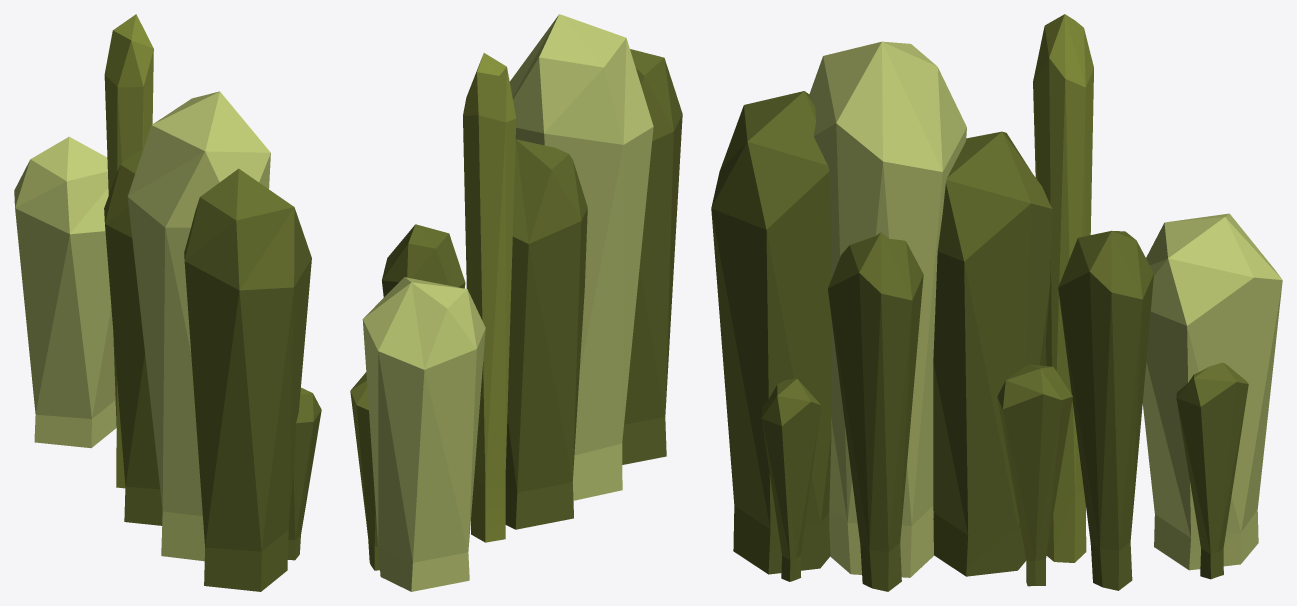
The model's file is ea_swamp_grass_01c_pre__4__lev1.glb.
The picture shows the model from 3 angles, left to right: view 1: azimuth 30°, elevation 25°; view 2: azimuth 150°, elevation 25°; view 3: azimuth 270°, elevation 25°; orthographic projection. The views are drawn at different scales.
Parts seen in each view (by area): view 1: ea_swamp_grass_01c_pre__4__lev1; view 2: ea_swamp_grass_01c_pre__4__lev1; view 3: ea_swamp_grass_01c_pre__4__lev1.
Boxes of the visible parts, <box> form: ea_swamp_grass_01c_pre__4__lev1: <box>14,14,321,591</box>; ea_swamp_grass_01c_pre__4__lev1: <box>350,14,682,591</box>; ea_swamp_grass_01c_pre__4__lev1: <box>711,14,1282,591</box>.
Size of the model in its own units: 0.3779 by 1.15 by 1.09.
1 material, 1 textured.
